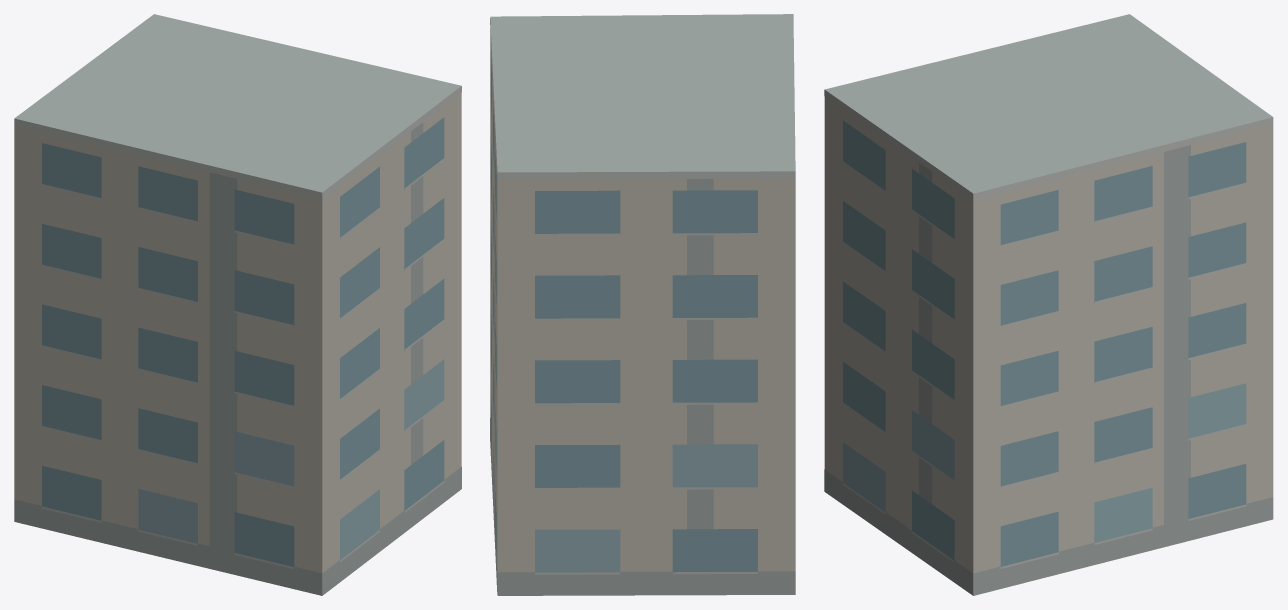
Rendered from survey-upis-32687787.glb.
3 views of the same model, side by side, from view 1: azimuth 30°, elevation 25°; view 2: azimuth 150°, elevation 25°; view 3: azimuth 270°, elevation 25° (orthographic). The views are drawn at different scales.
Visible parts, largest first — view 1: survey-upis-32687787.tmp; view 2: survey-upis-32687787.tmp; view 3: survey-upis-32687787.tmp.
Boxes of the visible parts, x1,y1,x2,y2 form: survey-upis-32687787.tmp: (14, 14, 461, 595); survey-upis-32687787.tmp: (490, 14, 795, 595); survey-upis-32687787.tmp: (824, 14, 1273, 595).
Size of the model in its own units: 13.8 by 14.4 by 14.57.
